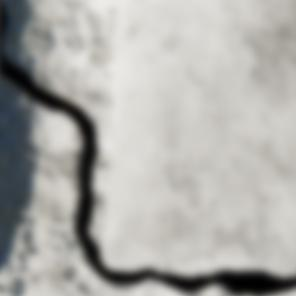brick: (0, 0, 1, 24)
broken_brick: (102, 0, 295, 275)
crack: (0, 0, 295, 295)
